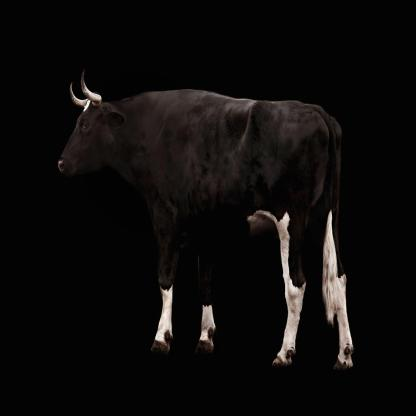cow: (58, 68, 354, 372)
